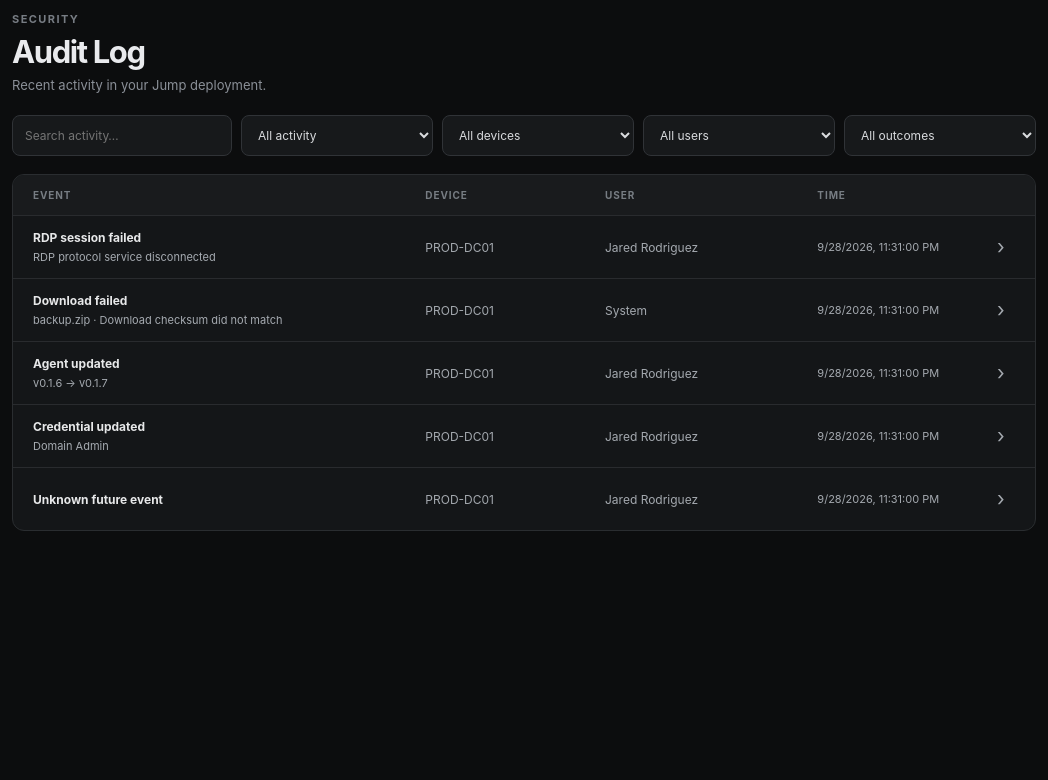
shows intentional labels, device, actor, System, readable reasons and safe details
Expected: the button with class "audit-row" shows "PROD-DC01", x1=13 y1=216 x2=1035 y2=278
Expected: the button with class "audit-row" shows "Jared Rodriguez", x1=13 y1=216 x2=1035 y2=278
Click the button with aria-label "Expand Download failed" at (80, 300), box x1=13 y1=279 x2=1035 y2=341
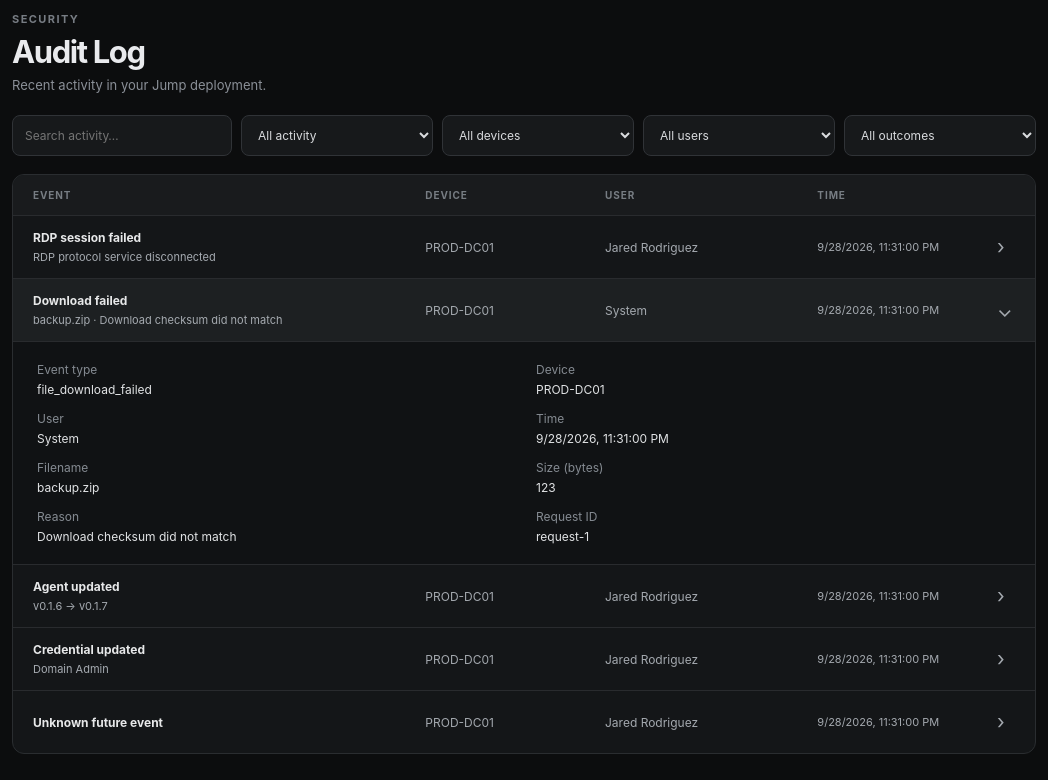
Result: the text "123" is shown at x1=536 y1=480 x2=556 y2=495
Result: the text "request-1" is shown at x1=536 y1=529 x2=589 y2=544
Click the button with aria-label "Collapse Download failed" at (80, 300), box x1=13 y1=279 x2=1035 y2=341
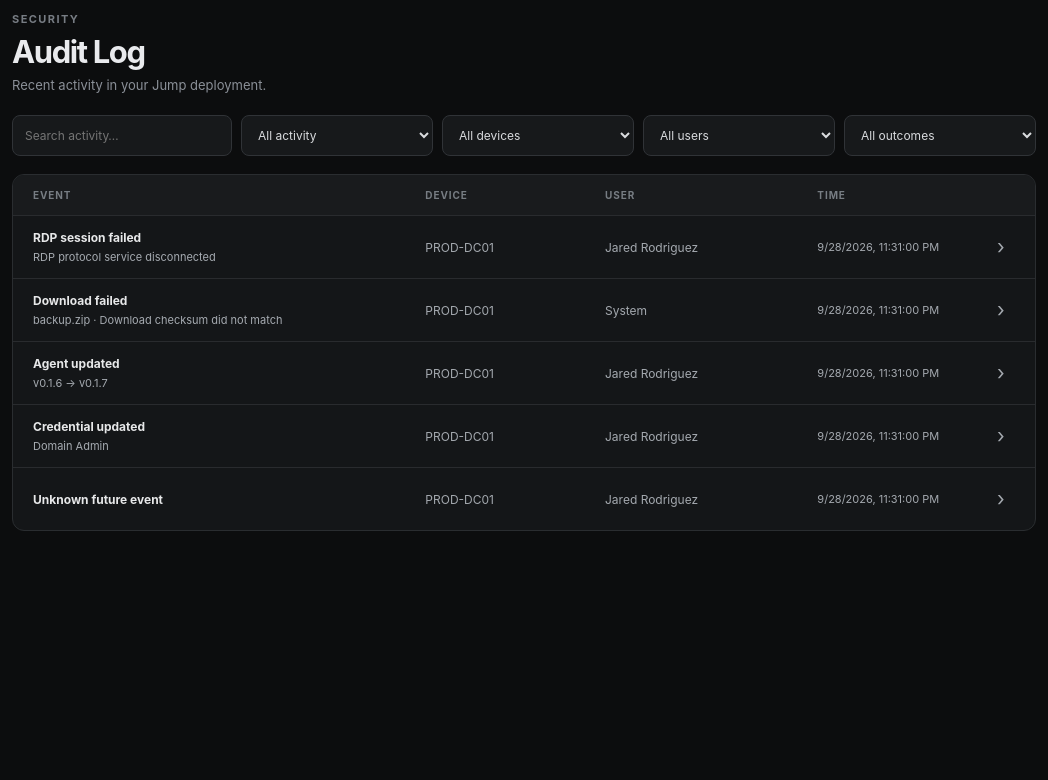
Result: the element with class "audit-details" is gone
